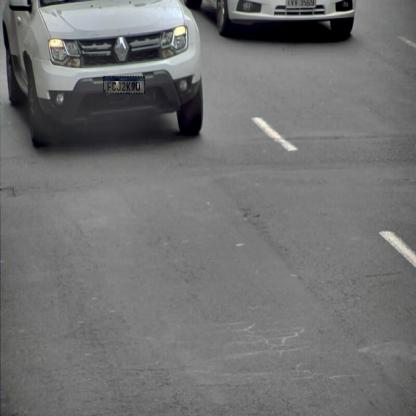PlacaM: (103, 76, 145, 94)
